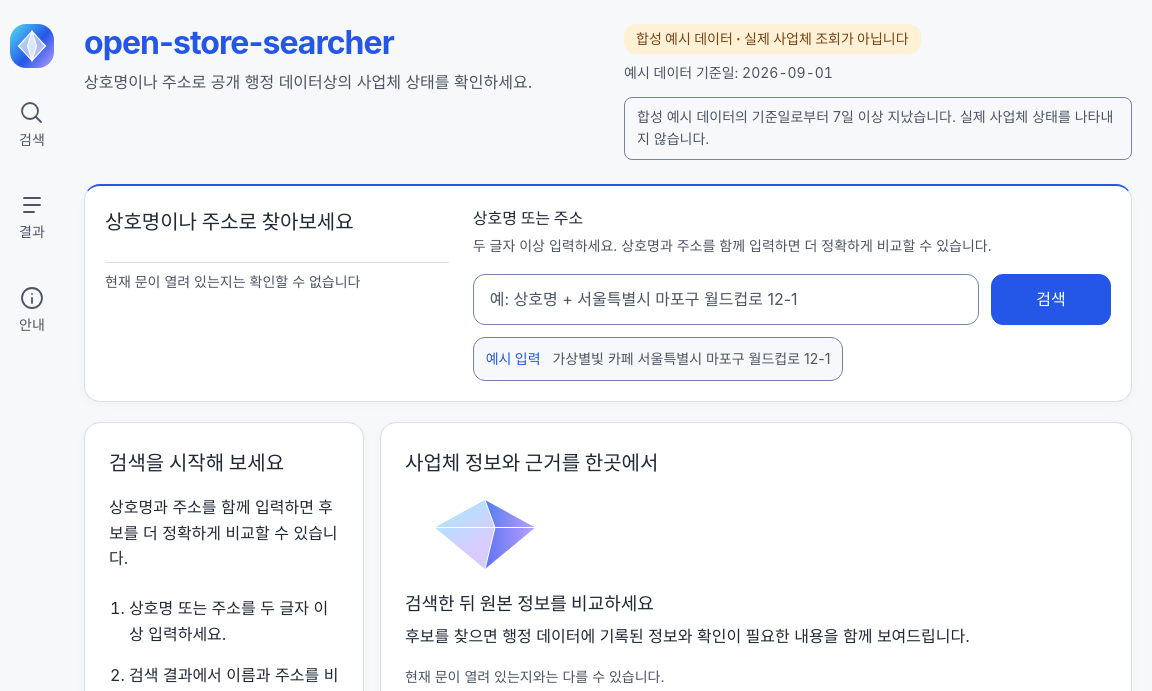
it: App › does not promote a licensing tie to a primary card
The width and height of the screenshot is (1152, 691).
Type "가상동률 식당 서울특별시 종로구 자하문로 20" into the search field labelled "상호명 또는 주소".
click(726, 299); type("가상동률 식당 서울특별시 종로구 자하문로 20")  # box [473,274,979,325]
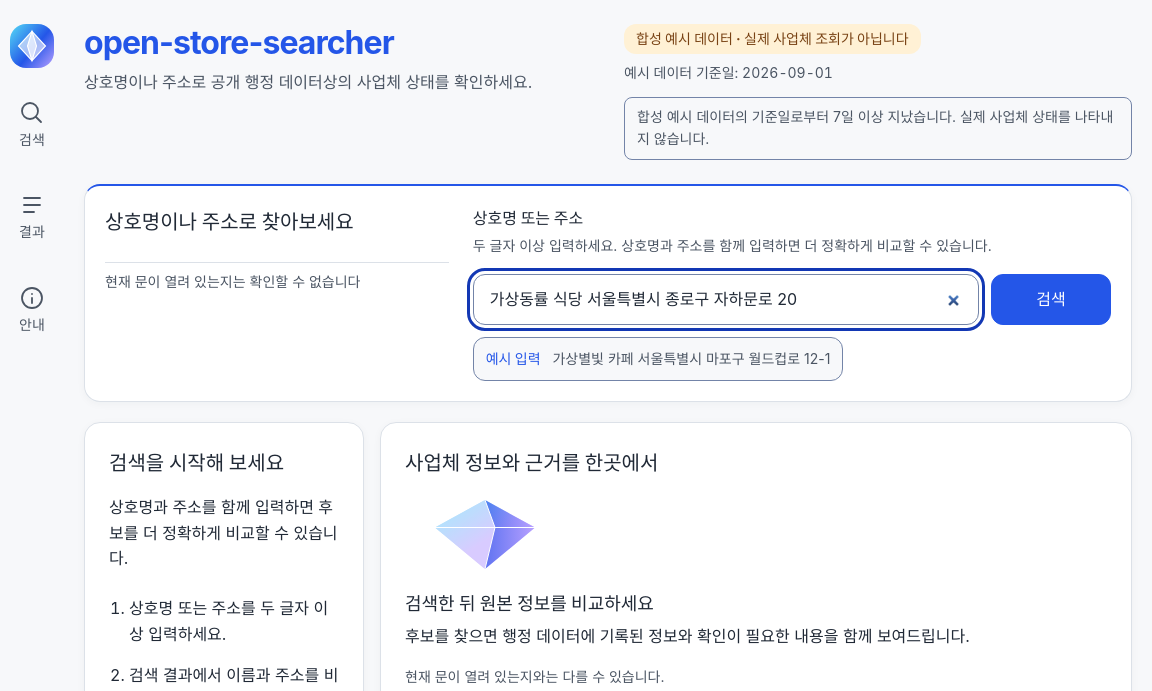
Click the button "검색" in the row of "현재 문이 열려 있는지는 확인할 수 없습니다".
click(1051, 299)  # box [991,274,1111,325]
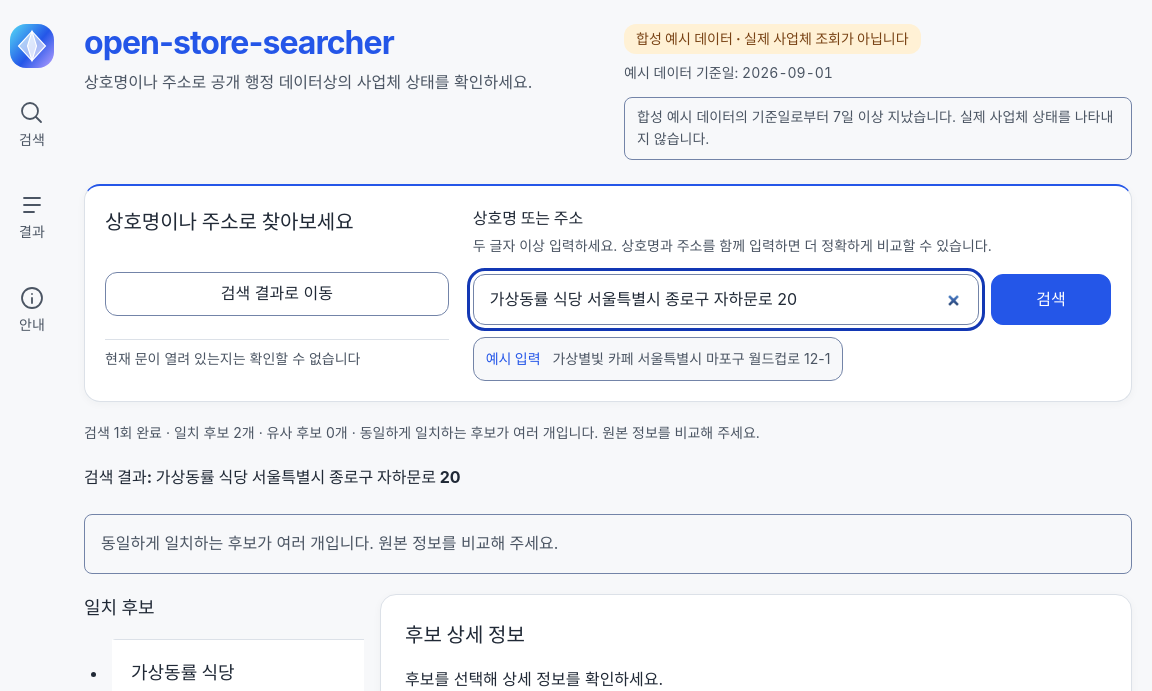
Check: the text "동일하게 일치하는 후보가 여러 개입니다. 원본 정보를 비교해 주세요." is shown, box [84,514,1132,574]
